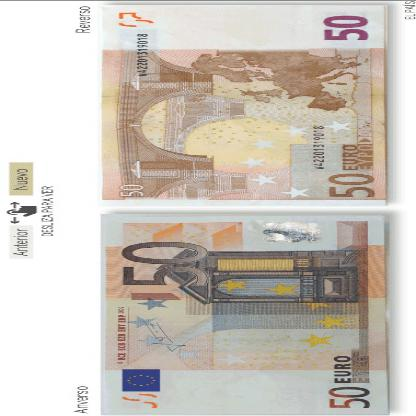euro_banknote: (100, 7, 391, 205), (100, 216, 390, 414)
